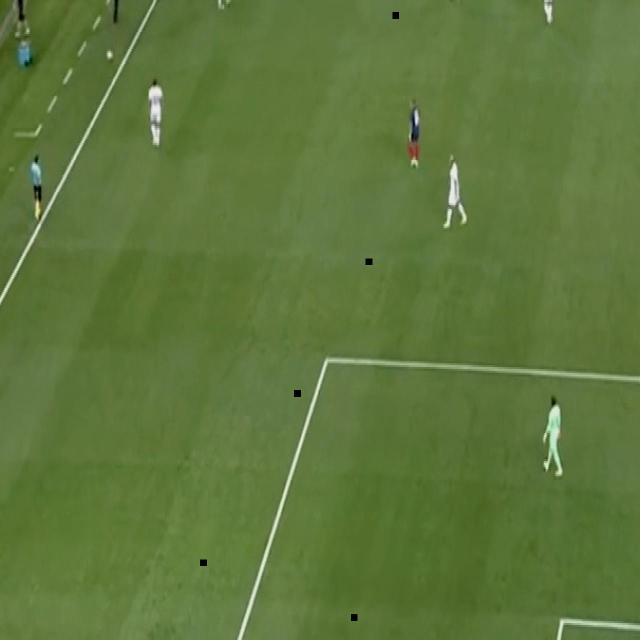ball: (106, 49, 114, 63)
player-white: (442, 154, 468, 230), (148, 77, 165, 149), (408, 99, 420, 168), (30, 153, 42, 221), (541, 0, 557, 24), (214, 0, 232, 8)
